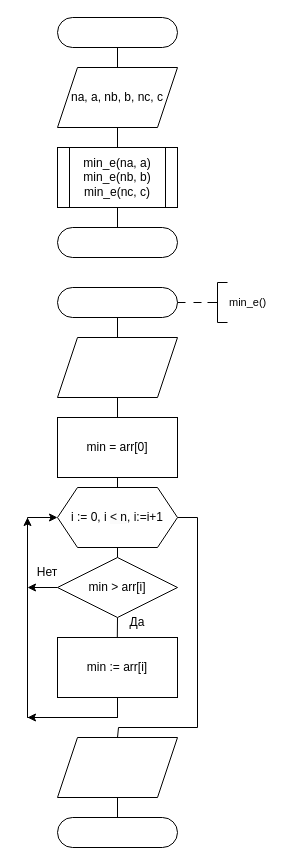
Some shapes in this 283 by 865 pixel diagram are drawn without their labels. Each missing label, with the centre of its shape:
min: the point at 117,767
n, arr: the point at 117,367
конец: the point at 117,242
начало: the point at 117,32
